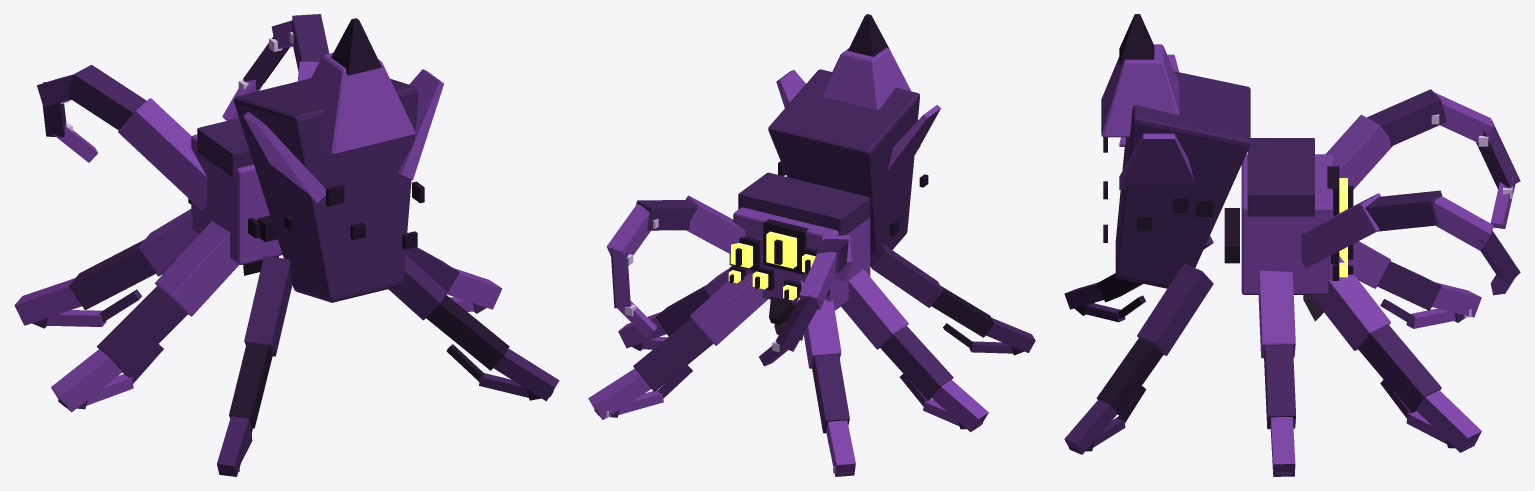
Rendered from krakenoid.glb.
3 views of the same model, side by side, from view 1: azimuth 30°, elevation 25°; view 2: azimuth 150°, elevation 25°; view 3: azimuth 270°, elevation 25° (orthographic). The views are drawn at different scales.
Visible parts, largest first — view 1: body, leg.BR, arm.R, leg.FR, head, arm.L, leg.BL; view 2: body, head, leg.FL, leg.BR, arm.L, leg.FR, arm.R, leg.BL; view 3: body, head, leg.FL, arm.R, arm.L, leg.BL, leg.FR.
Boxes of the visible parts, left/top/right/bottom form: body: left=217, top=18, right=559, bottom=476; leg.BR: left=51, top=221, right=238, bottom=412; arm.R: left=37, top=65, right=206, bottom=210; leg.FR: left=14, top=209, right=198, bottom=328; head: left=188, top=118, right=282, bottom=275; arm.L: left=222, top=14, right=329, bottom=120; leg.BL: left=405, top=247, right=502, bottom=313; body: left=768, top=14, right=1035, bottom=355; head: left=728, top=172, right=870, bottom=340; leg.FL: left=588, top=273, right=767, bottom=419; leg.BR: left=841, top=269, right=988, bottom=432; arm.L: left=606, top=195, right=745, bottom=337; leg.FR: left=800, top=280, right=855, bottom=476; arm.R: left=759, top=235, right=851, bottom=366; leg.BL: left=618, top=268, right=730, bottom=350; body: left=1064, top=14, right=1250, bottom=454; head: left=1241, top=138, right=1353, bottom=321; leg.FL: left=1311, top=256, right=1481, bottom=452; arm.R: left=1325, top=89, right=1520, bottom=228; arm.L: left=1301, top=190, right=1520, bottom=295; leg.BL: left=1258, top=270, right=1295, bottom=476; leg.FR: left=1348, top=241, right=1481, bottom=328.
Size of the model in its own units: 1.16 by 1 by 1.12.
